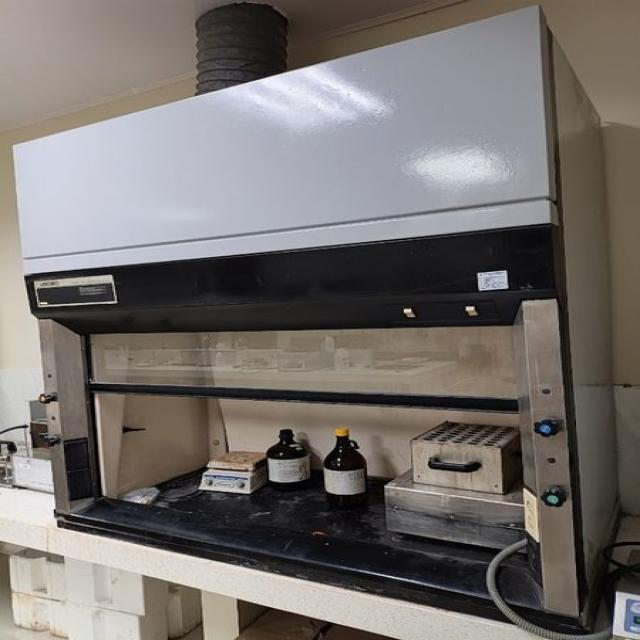Campana de Extraccion de Gases de Laboratorio: (14, 7, 619, 633)
